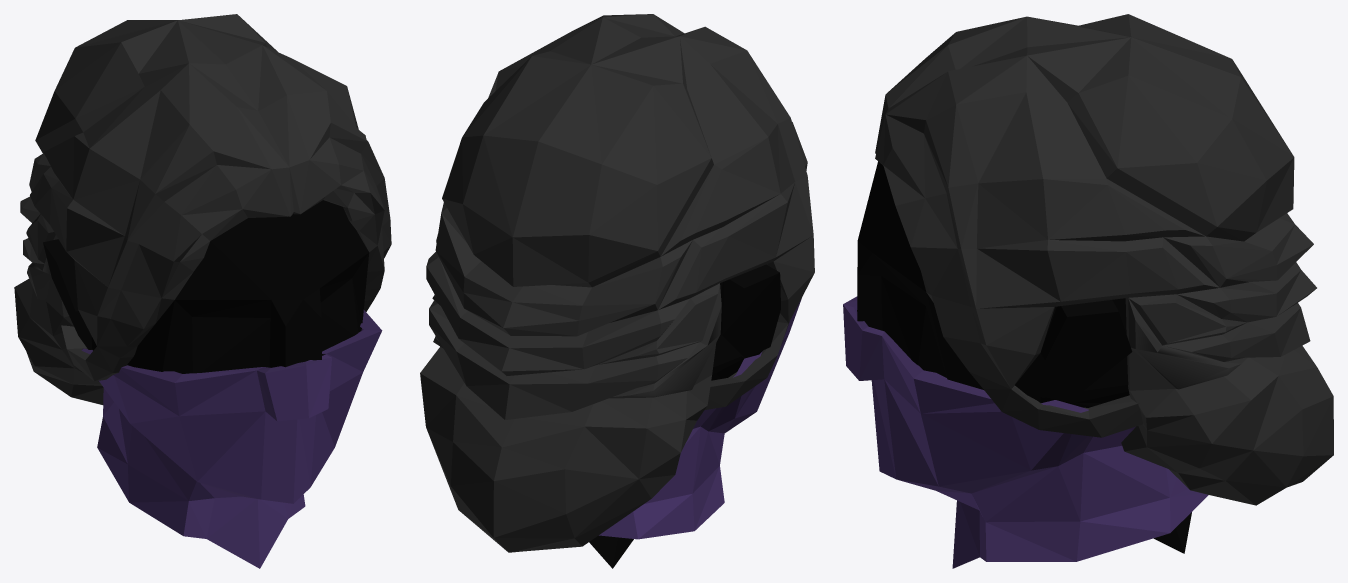
File: FemaleRogueHead.dae
3 renders of one model, left to right at view 1: azimuth 30°, elevation 25°; view 2: azimuth 150°, elevation 25°; view 3: azimuth 270°, elevation 25°, orthographic. The views are drawn at different scales.
Visible parts, largest first — view 1: FemaleHead; view 2: FemaleHead; view 3: FemaleHead.
Part boxes in pixels (bbox=[...]): FemaleHead: bbox=[14, 14, 391, 568]; FemaleHead: bbox=[420, 14, 814, 568]; FemaleHead: bbox=[843, 14, 1333, 568].
Bounding box in the file's own units: 1.43 × 1.85 × 2.21.
